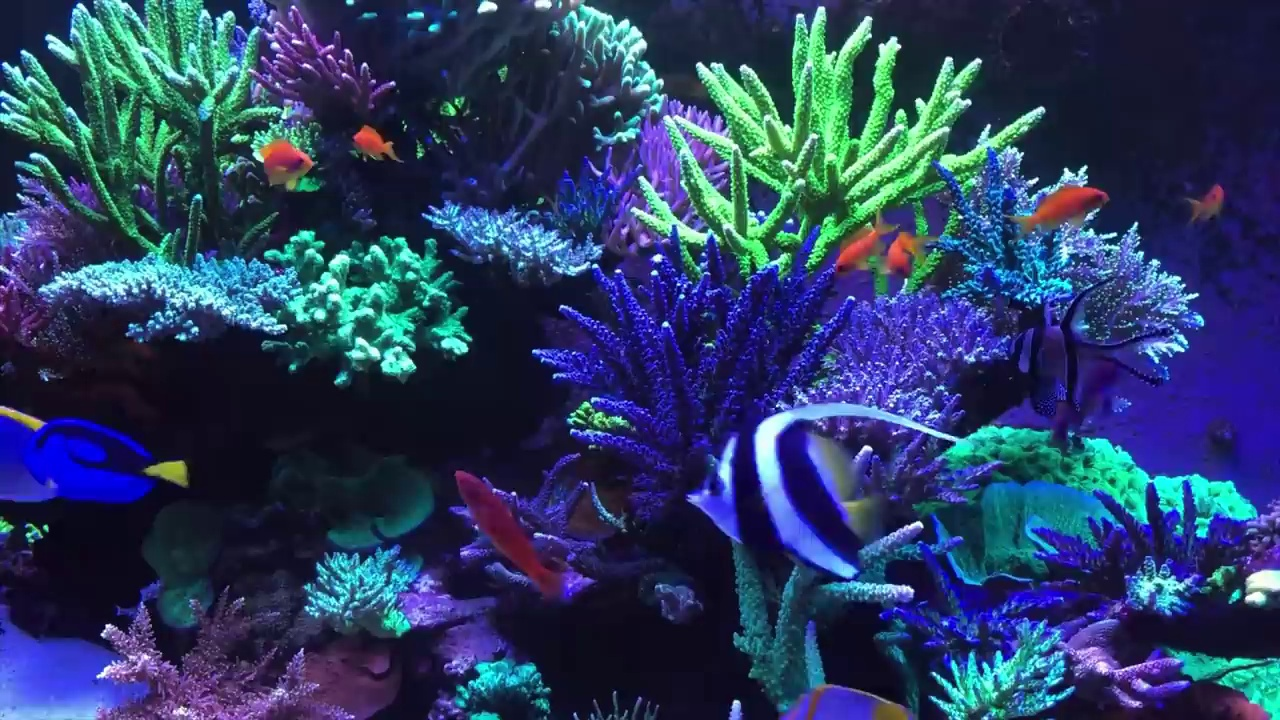fish: (686, 400, 963, 578), (21, 416, 192, 504), (454, 469, 569, 599), (1010, 184, 1110, 239), (779, 686, 914, 720), (835, 208, 895, 284), (257, 139, 316, 187), (887, 230, 942, 281), (350, 122, 407, 163), (1183, 182, 1226, 225)
